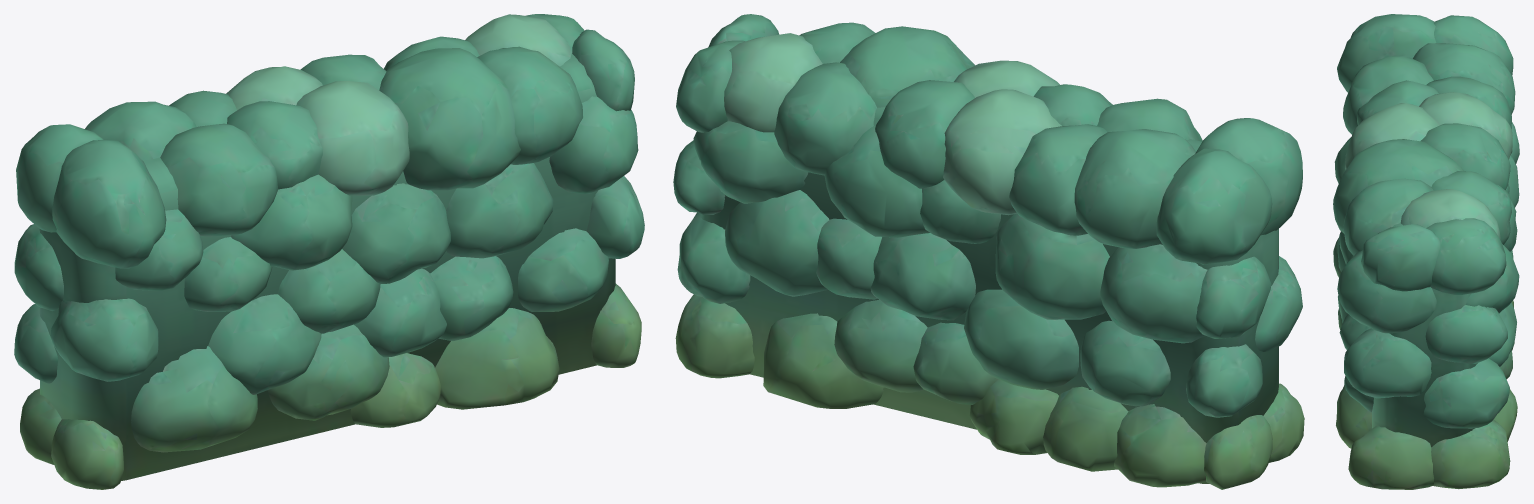
File: hedge.glb
The picture shows the model from 3 angles, left to right: view 1: azimuth 30°, elevation 25°; view 2: azimuth 150°, elevation 25°; view 3: azimuth 270°, elevation 25°; orthographic projection. The views are drawn at different scales.
Visible parts, largest first — view 1: hedge_body; view 2: hedge_body; view 3: hedge_body.
Part boxes in pixels (left/top/right/bottom): hedge_body: left=14, top=14, right=644, bottom=489; hedge_body: left=673, top=14, right=1304, bottom=489; hedge_body: left=1333, top=14, right=1519, bottom=489.
Size of the model in its own units: 1.97 by 1.08 by 0.6734.
1 material, 1 textured.
